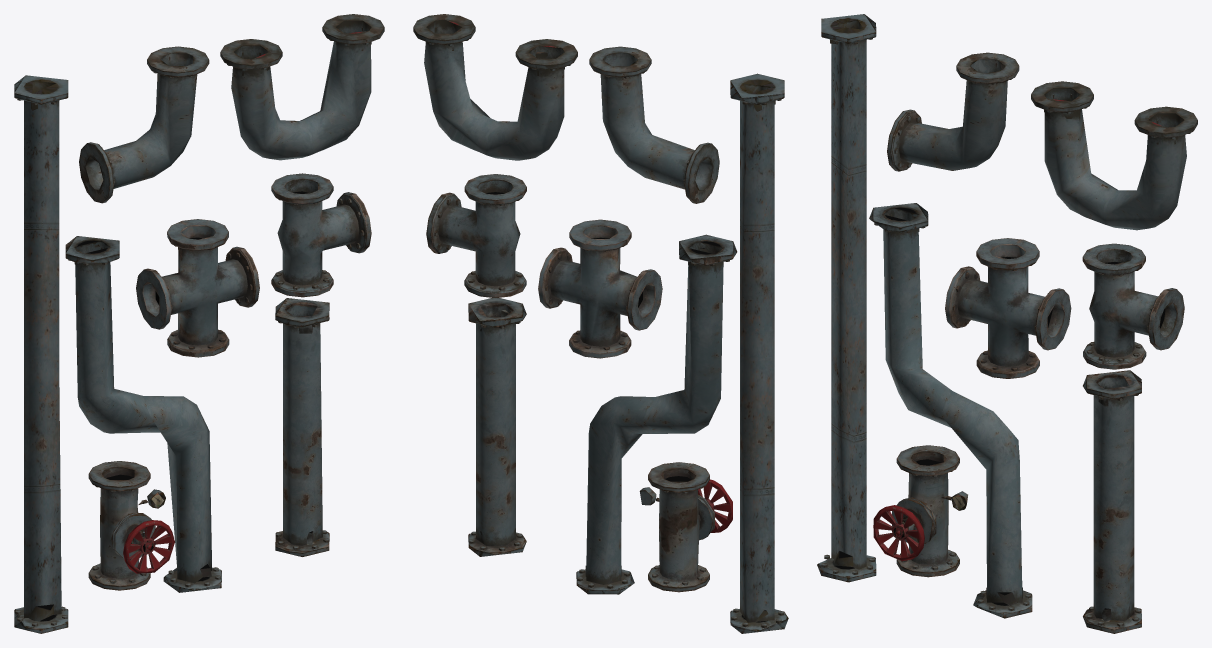
Rendered from ph_pipes.glb.
The picture shows the model from 3 angles, left to right: view 1: azimuth 30°, elevation 25°; view 2: azimuth 150°, elevation 25°; view 3: azimuth 330°, elevation 25°; orthographic projection.
Parts seen in each view (by area): view 1: modular_industrial_pipes_01_pipe02, modular_industrial_pipes_01_pipe03, modular_industrial_pipes_01_pipe05, modular_industrial_pipes_01_pipe01, modular_industrial_pipes_01_pipe07, modular_industrial_pipes_01_pipe04, modular_industrial_pipes_01_pipe06, modular_industrial_pipes_01_pipe08; view 2: modular_industrial_pipes_01_pipe02, modular_industrial_pipes_01_pipe03, modular_industrial_pipes_01_pipe05, modular_industrial_pipes_01_pipe01, modular_industrial_pipes_01_pipe07, modular_industrial_pipes_01_pipe04, modular_industrial_pipes_01_pipe06, modular_industrial_pipes_01_pipe08; view 3: modular_industrial_pipes_01_pipe02, modular_industrial_pipes_01_pipe03, modular_industrial_pipes_01_pipe05, modular_industrial_pipes_01_pipe01, modular_industrial_pipes_01_pipe07, modular_industrial_pipes_01_pipe06, modular_industrial_pipes_01_pipe04, modular_industrial_pipes_01_pipe08.
Boxes of the visible parts, x1,y1,x2,y2 form: modular_industrial_pipes_01_pipe02: (14,75,68,633); modular_industrial_pipes_01_pipe03: (65,236,221,592); modular_industrial_pipes_01_pipe05: (220,14,384,160); modular_industrial_pipes_01_pipe01: (275,298,329,556); modular_industrial_pipes_01_pipe07: (136,219,259,357); modular_industrial_pipes_01_pipe04: (79,46,209,203); modular_industrial_pipes_01_pipe06: (271,173,371,297); modular_industrial_pipes_01_pipe08: (88,461,174,590); modular_industrial_pipes_01_pipe02: (730,73,788,633); modular_industrial_pipes_01_pipe03: (576,234,737,594); modular_industrial_pipes_01_pipe05: (413,14,577,160); modular_industrial_pipes_01_pipe01: (468,298,526,556); modular_industrial_pipes_01_pipe07: (538,219,662,358); modular_industrial_pipes_01_pipe04: (589,46,719,203); modular_industrial_pipes_01_pipe06: (426,174,526,297); modular_industrial_pipes_01_pipe08: (639,462,732,592); modular_industrial_pipes_01_pipe02: (817,14,876,582); modular_industrial_pipes_01_pipe03: (869,203,1032,618); modular_industrial_pipes_01_pipe05: (1031,81,1197,230); modular_industrial_pipes_01_pipe01: (1083,370,1141,633); modular_industrial_pipes_01_pipe07: (945,238,1071,378); modular_industrial_pipes_01_pipe06: (1082,243,1184,369); modular_industrial_pipes_01_pipe04: (887,52,1019,171); modular_industrial_pipes_01_pipe08: (873,445,967,577).
Bounding box in the file's own units: 1.4 × 1.95 × 0.3073.
Materials: 2 (2 with a texture image).
